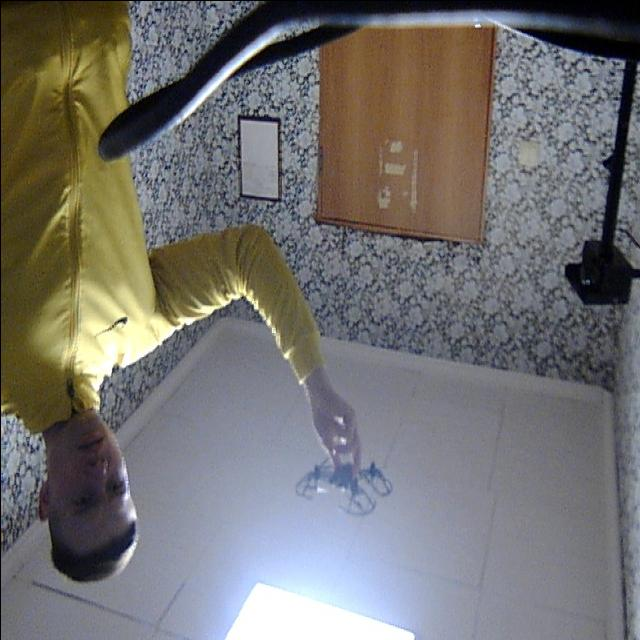drone: (290, 447, 396, 525)
